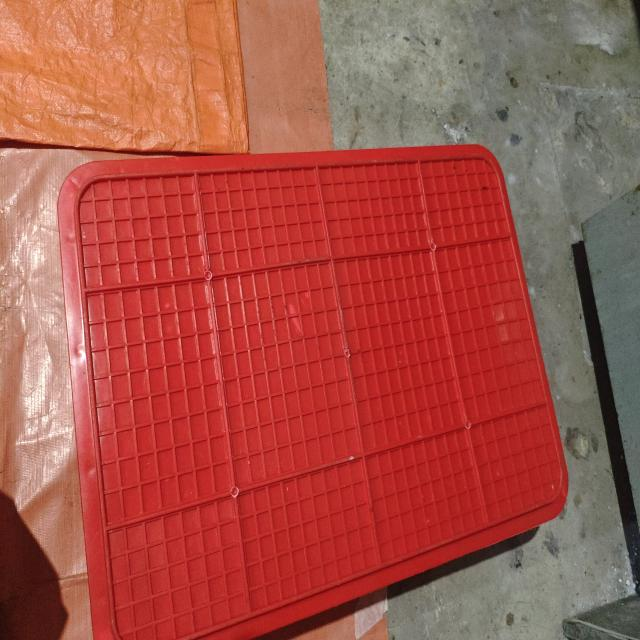red plastic box: (58, 144, 570, 640)
